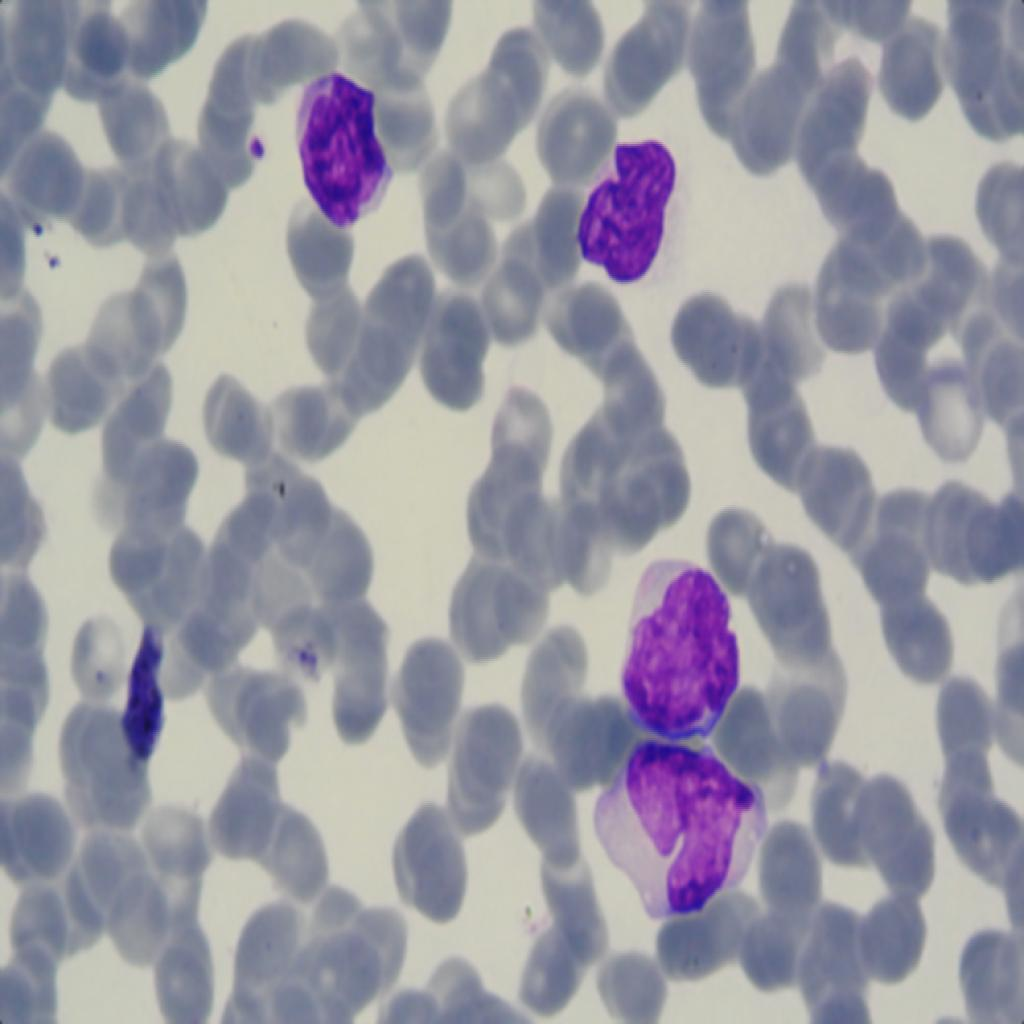Myeoblast: (617, 724, 753, 925), (618, 560, 750, 744), (572, 112, 675, 304), (288, 63, 392, 231)
Platelet: (242, 124, 272, 164), (45, 239, 61, 280), (26, 209, 45, 239)
